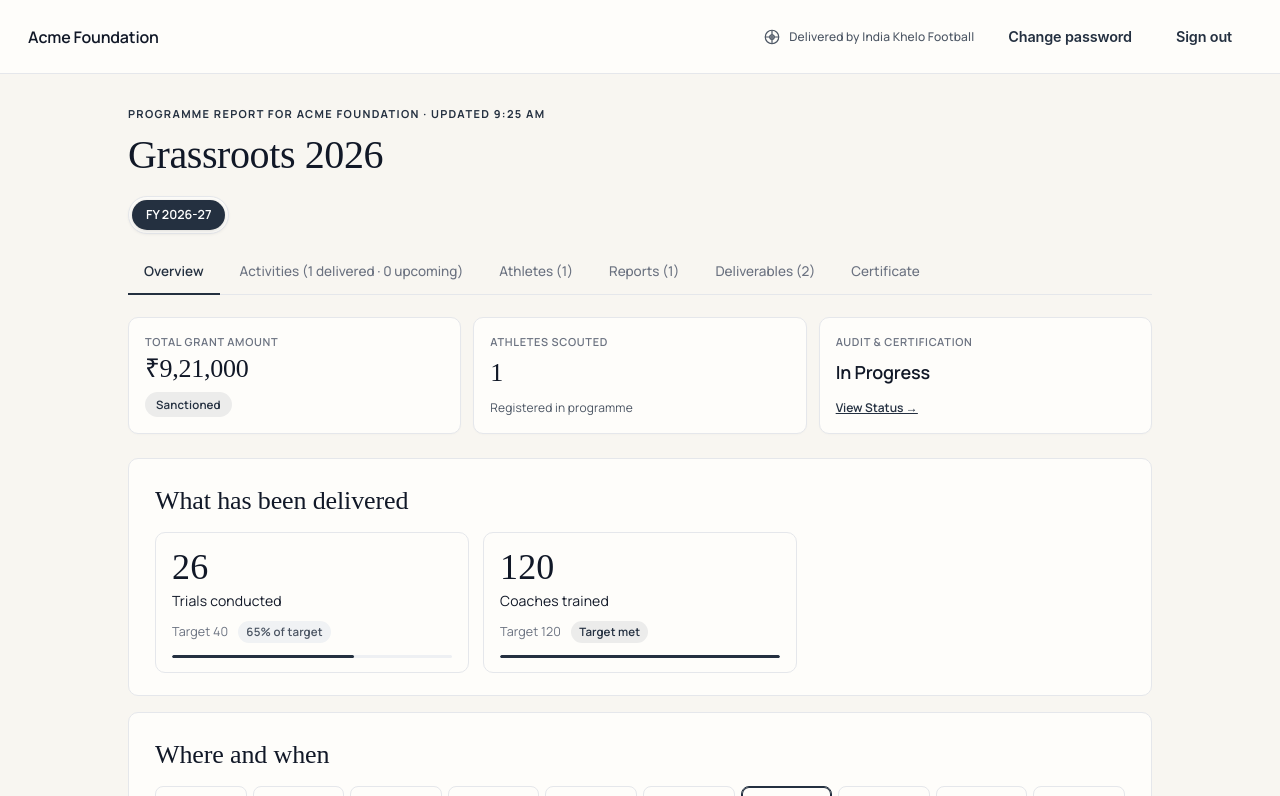
Test: an athlete with no category shows a dash, not a band worked out from a birth date
Expected: the heading "What has been delivered" is shown, top-left (155, 486), bottom-right (408, 515)
Click the tab "Athletes (1)": (536, 272) top-left (483, 250), bottom-right (589, 295)
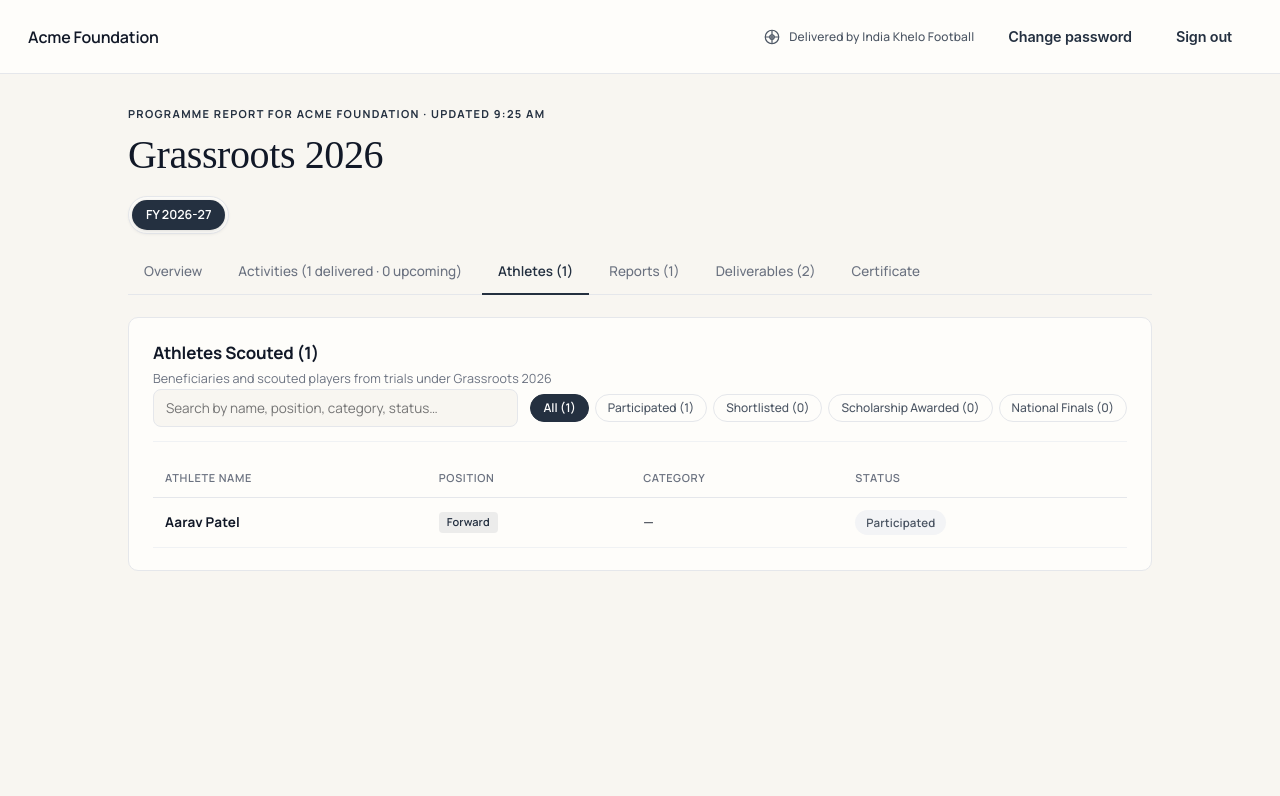
Expected: the cell "—" is shown, top-left (631, 497), bottom-right (843, 547)
